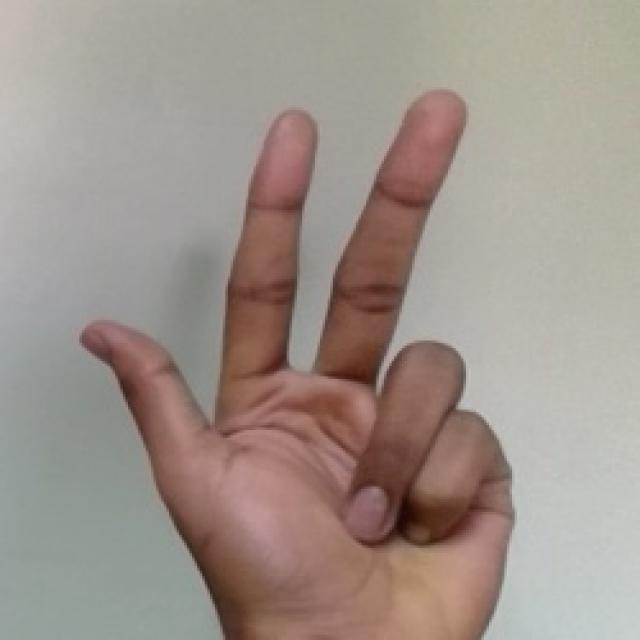Numeric-3: (77, 84, 508, 638)
